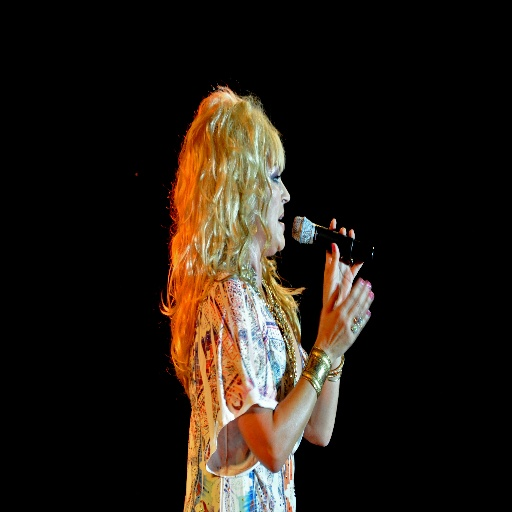hand: (306, 242, 376, 379), (323, 218, 364, 307)
